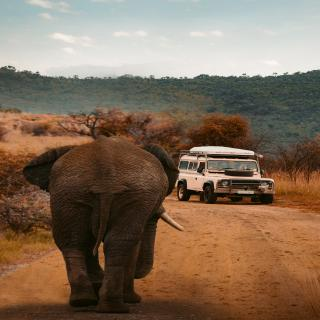Elephant: (20, 136, 188, 311)
